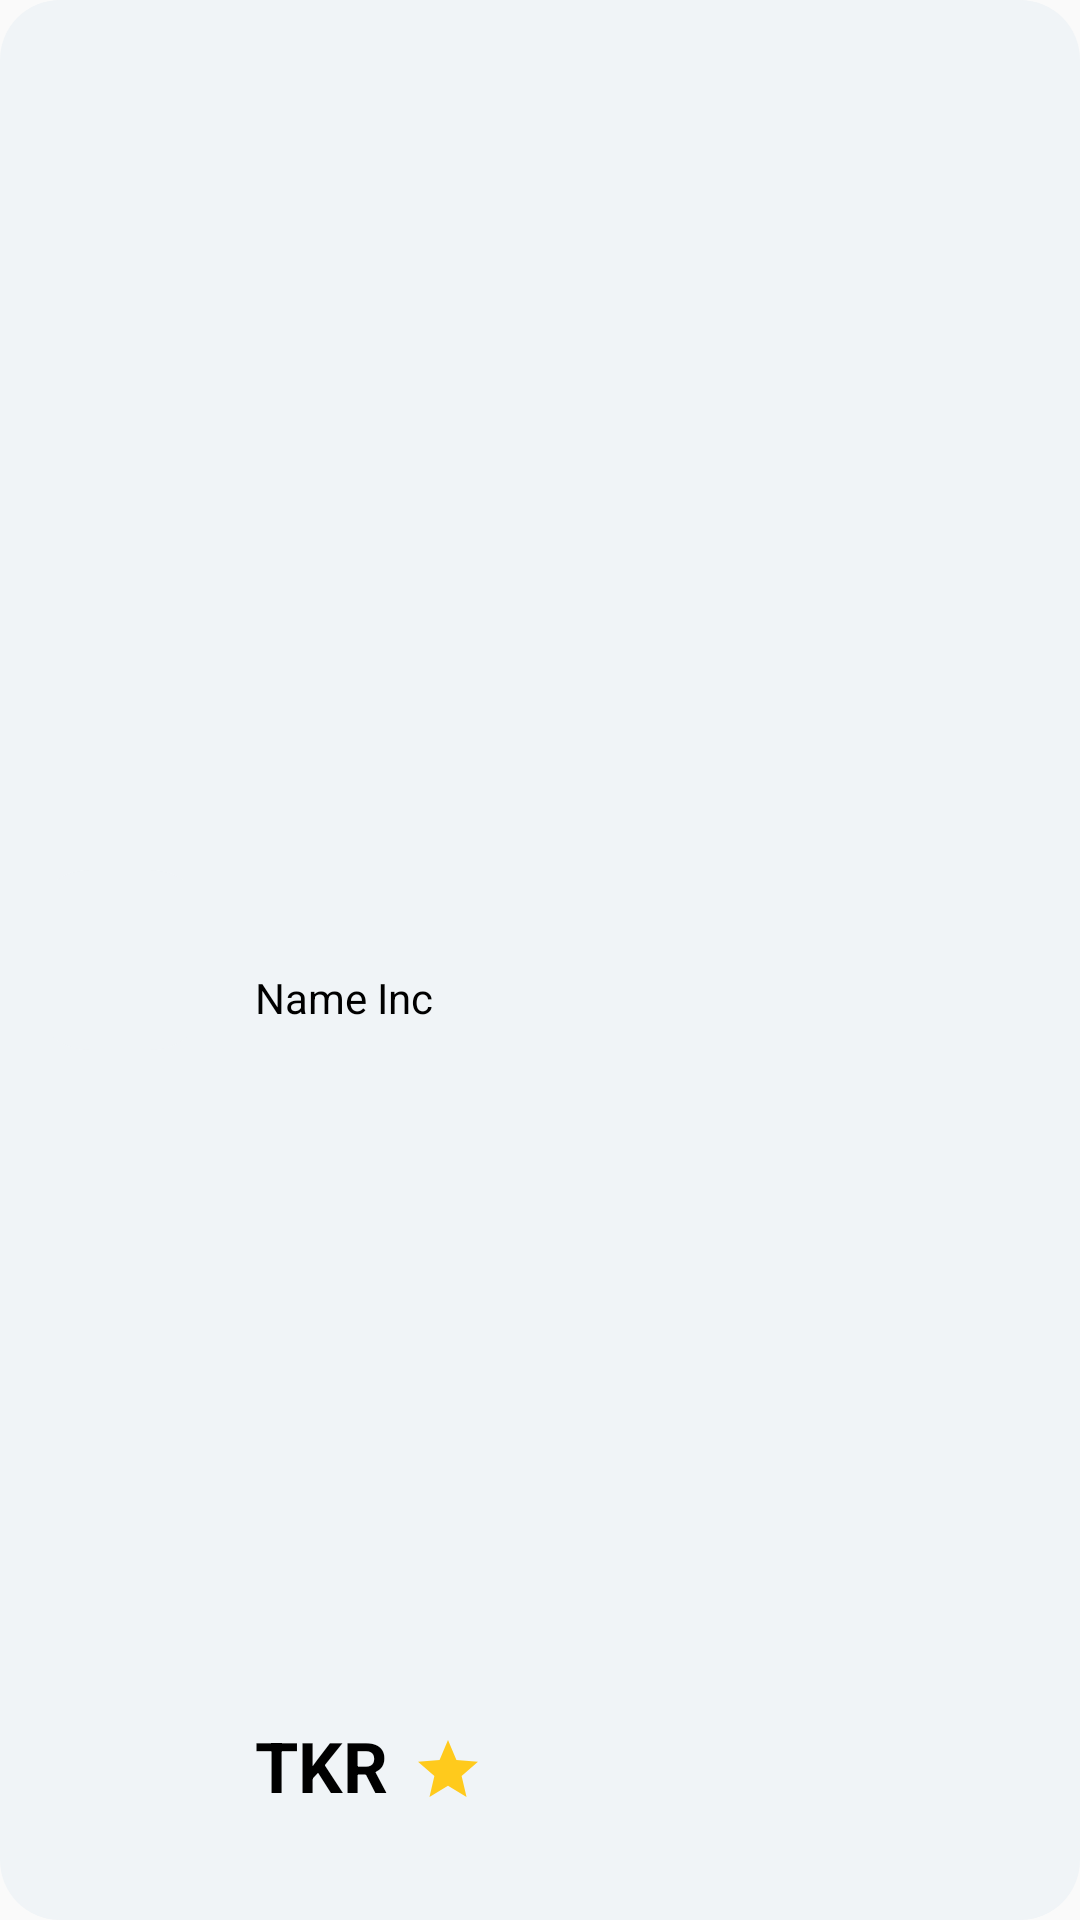

Named icons in this screenshot (1080x1920) and their centers, [x,y]:
favourite is true: [448,1768]
